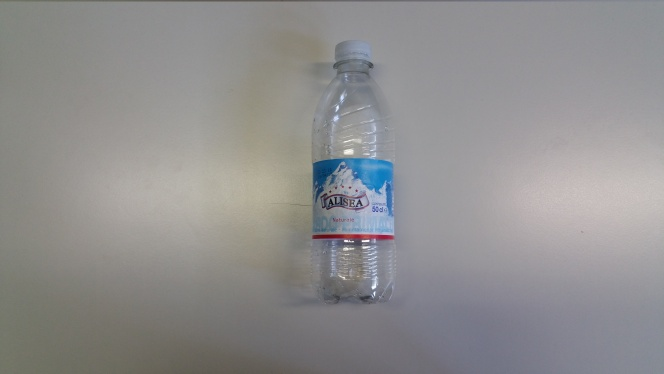bottle: (298, 38, 403, 304)
